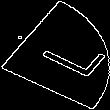L_NW: (14, 28, 96, 82)
